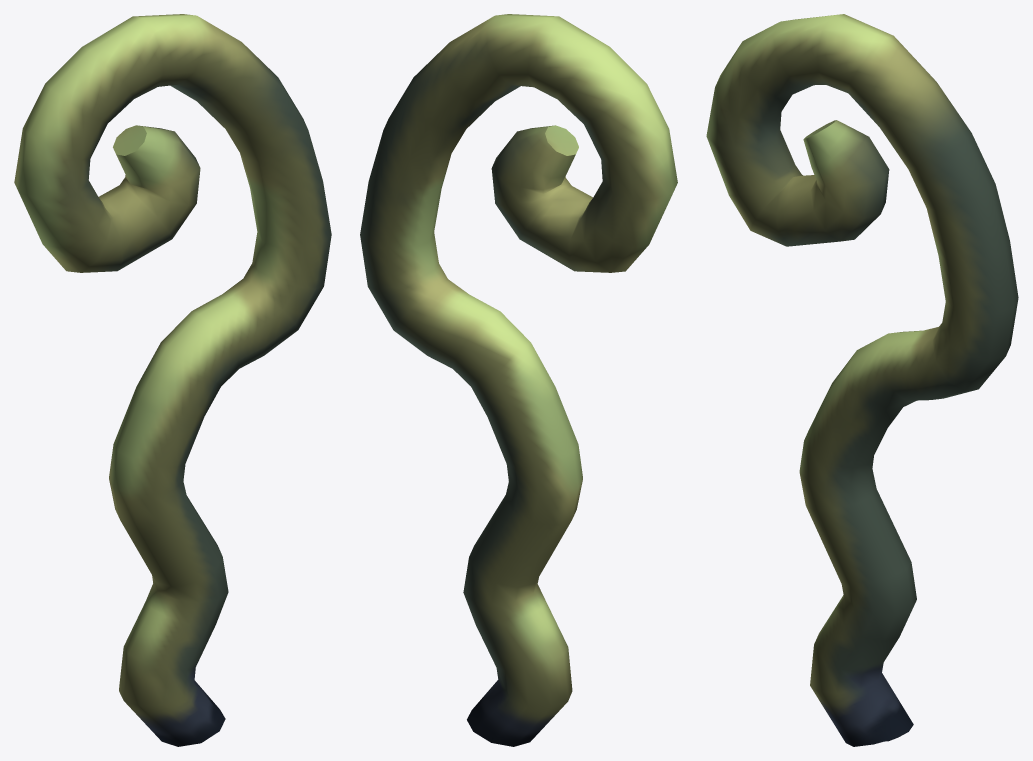
File: Bracken_T_04.FBX
The picture shows the model from 3 angles, left to right: view 1: azimuth 30°, elevation 25°; view 2: azimuth 150°, elevation 25°; view 3: azimuth 330°, elevation 25°; orthographic projection.
Parts seen in each view (by area): view 1: Line006; view 2: Line006; view 3: Line006.
Part boxes in pixels (x1,y1,x2,y2): Line006: (14, 14, 331, 746); Line006: (360, 14, 677, 746); Line006: (706, 14, 1018, 746).
Size of the model in its own units: 28.09 by 63.46 by 5.82.
